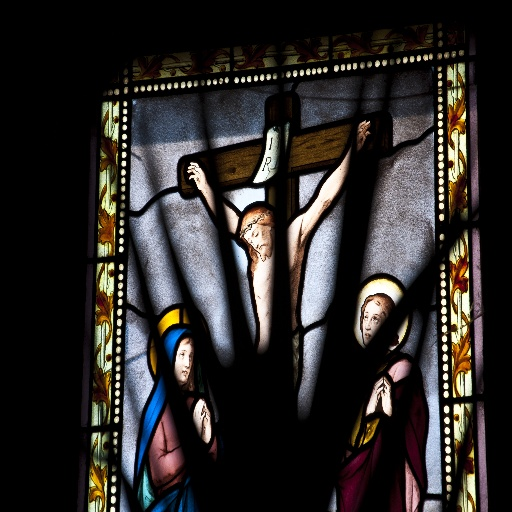hand: (179, 156, 217, 206), (367, 376, 384, 416), (355, 117, 372, 156), (380, 378, 394, 418), (192, 398, 204, 438), (202, 402, 212, 445)
